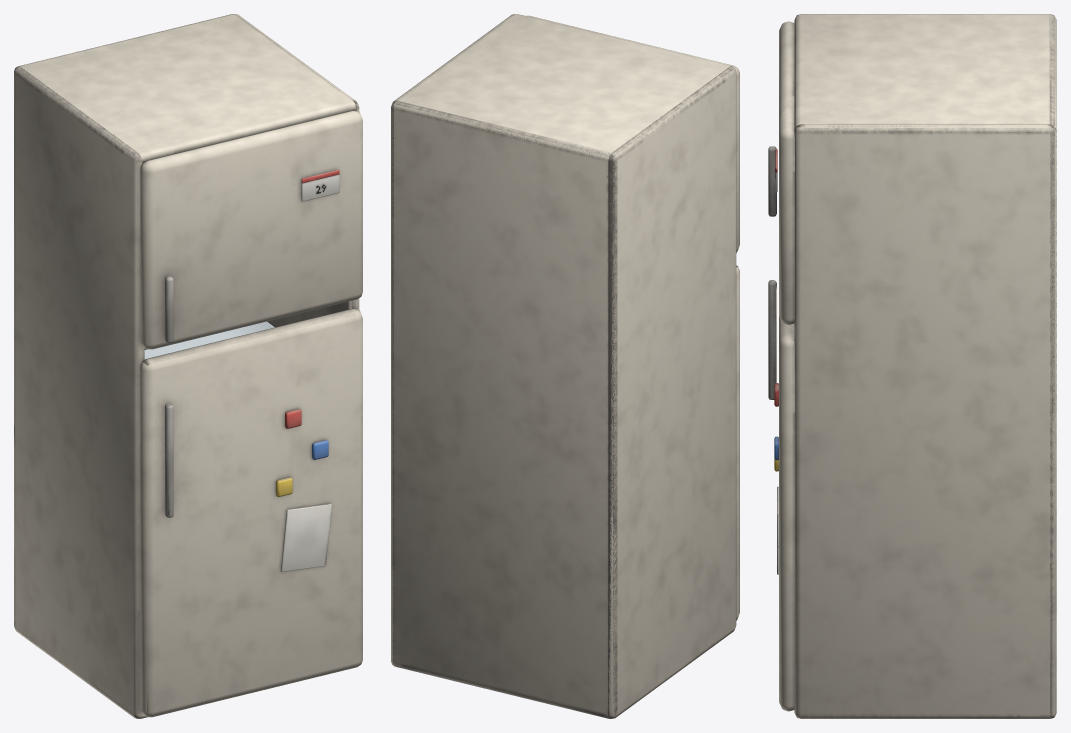
File: fridge.fbx
3 renders of one model, left to right at view 1: azimuth 30°, elevation 25°; view 2: azimuth 150°, elevation 25°; view 3: azimuth 270°, elevation 25°, orthographic. The views are drawn at different scales.
Parts seen in each view (by area): view 1: Body, Door, Door2; view 2: Body, Door, Door2; view 3: Body, Door, Door2.
Boxes of the visible parts, box(x1,y1,x2,y2) form: Body: box(14, 14, 359, 718); Door: box(140, 309, 362, 717); Door2: box(140, 111, 362, 349); Body: box(391, 14, 736, 718); Door: box(736, 265, 739, 620); Door2: box(526, 15, 739, 252); Body: box(794, 14, 1056, 718); Door: box(768, 280, 794, 711); Door2: box(768, 21, 794, 324).
Bounding box in the file's own units: 2.5 × 6 × 2.64.
1 material, 1 textured.
